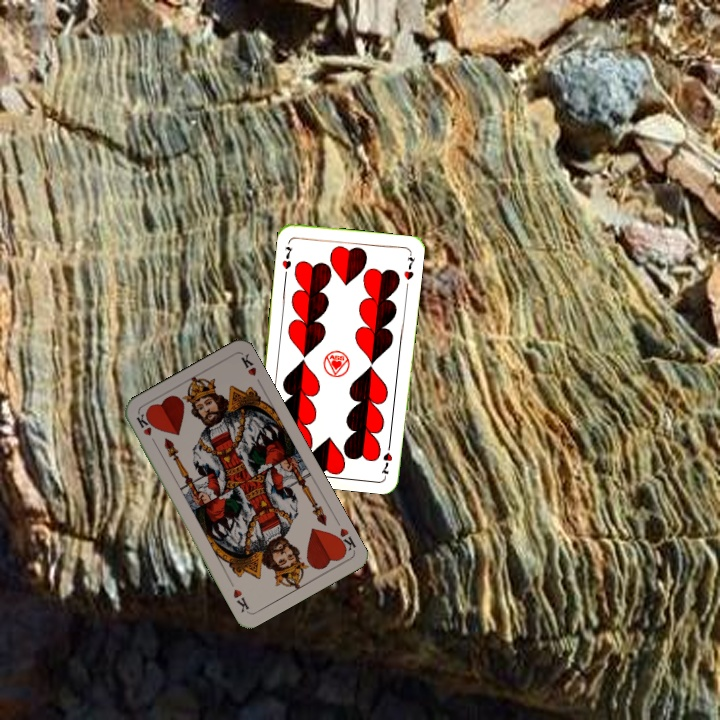H7: (377, 438, 395, 478), (278, 243, 295, 272)
HK: (132, 410, 159, 448), (331, 524, 359, 556)
